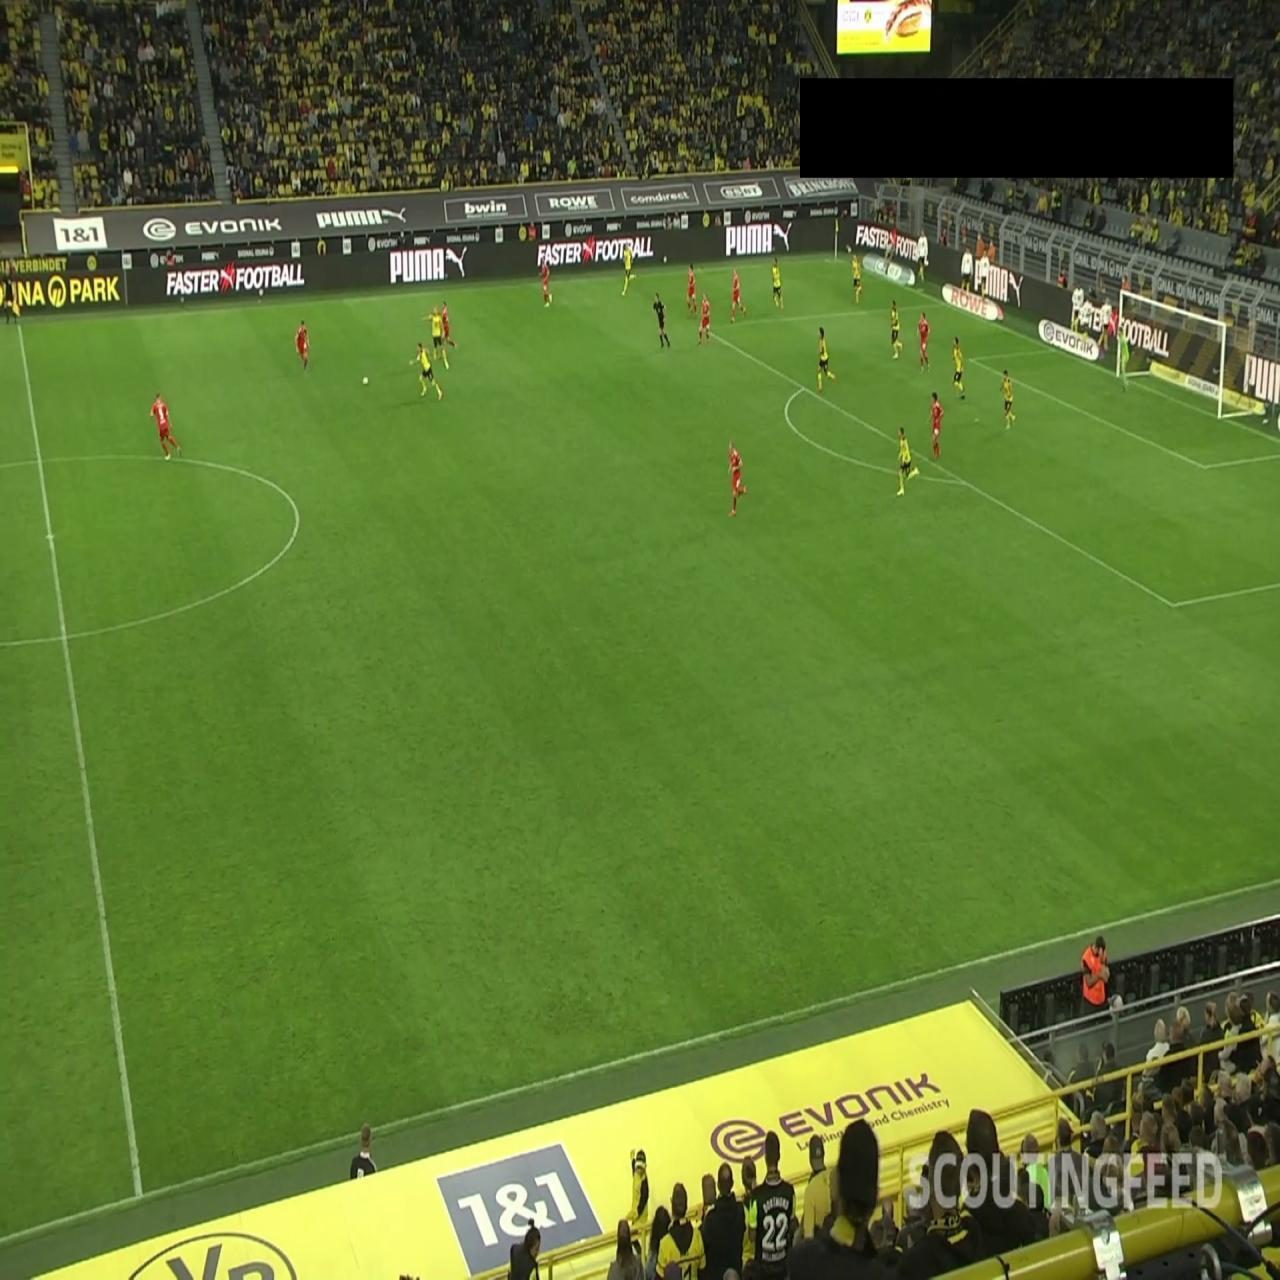Ball: (362, 374, 369, 388)
GoalKeeper: (1116, 324, 1130, 392)
Player: (408, 340, 444, 400), (150, 392, 182, 459), (420, 302, 450, 370), (897, 427, 921, 495), (726, 438, 746, 516), (818, 326, 836, 394), (999, 368, 1015, 429), (930, 392, 944, 459), (622, 242, 638, 298), (730, 268, 746, 322), (918, 311, 931, 374), (295, 318, 310, 372), (952, 336, 965, 398), (441, 301, 456, 354), (698, 292, 712, 346), (771, 256, 784, 310), (891, 298, 902, 360), (852, 251, 864, 305), (540, 260, 552, 306), (686, 263, 696, 315)
Referee: (652, 292, 672, 349), (4, 264, 20, 326)
